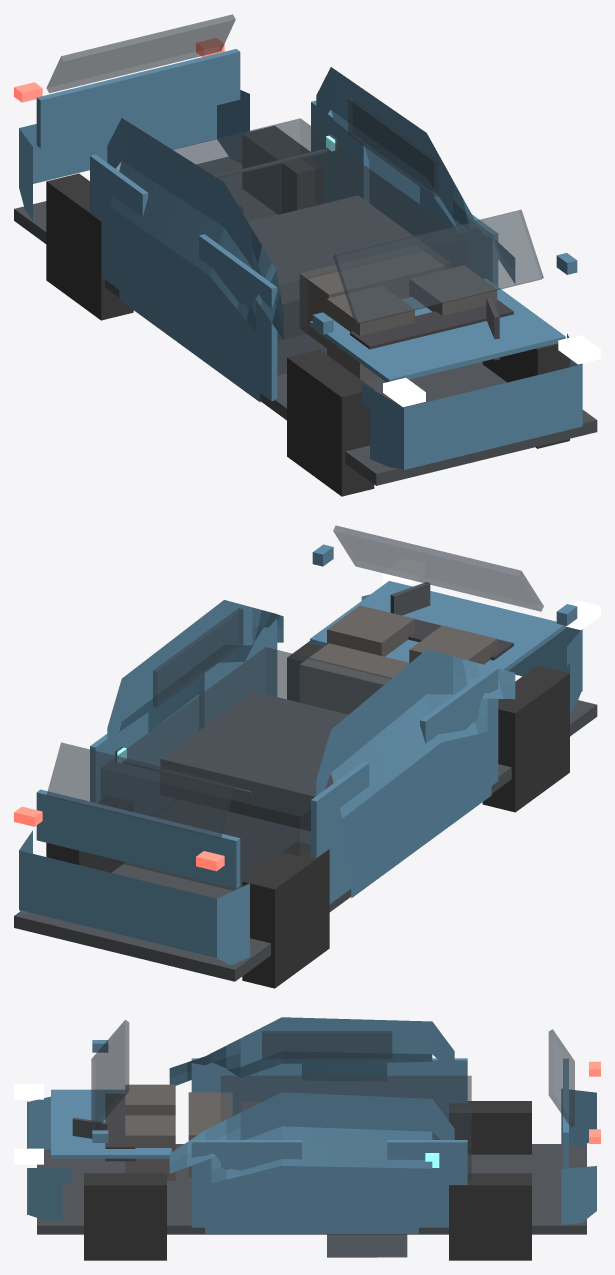
File: pickup_lod2.glb
3 views of the same model, one above another, from view 1: azimuth 30°, elevation 25°; view 2: azimuth 150°, elevation 25°; view 3: azimuth 270°, elevation 25° (orthographic). The views are drawn at different scales.
Visible parts, largest first — view 1: body_mesh, cab_mesh, windshield, tailgate_mesh, trim_mesh, wheel_well_mesh, tire_fr, frunk_mesh, tire_rr, rear_glass, seat_rear, tire_rl (+11 smaller); view 2: body_mesh, cab_mesh, wheel_well_mesh, trim_mesh, tailgate_mesh, rear_glass, tire_rr, tire_fr, windshield, frunk_mesh, seat_rear, door_fl_mesh (+11 smaller); view 3: body_mesh, trim_mesh, cab_mesh, tire_fl, tire_rl, tire_rr, frunk_mesh, window_fixed_r, door_rl_mesh, door_fl_mesh, door_fr_mesh, door_rr_mesh (+13 smaller).
Part boxes in pixels (x1,y1,x2,y2): body_mesh: (19,67,582,469); cab_mesh: (116,118,465,375); windshield: (333,210,543,324); tailgate_mesh: (36,49,240,148); trim_mesh: (14,156,597,485); wheel_well_mesh: (248,195,450,340); tire_fr: (287,349,374,496); frunk_mesh: (310,278,565,382); tire_rr: (46,173,133,320); rear_glass: (46,14,235,93); seat_rear: (299,245,444,347); tire_rl: (242,126,322,214); body_mesh: (19,594,582,965); cab_mesh: (101,647,391,890); wheel_well_mesh: (160,691,348,831); trim_mesh: (14,700,597,981); tailgate_mesh: (36,789,240,888); rear_glass: (46,742,235,838); tire_rr: (242,841,329,988); tire_fr: (482,665,569,812); windshield: (333,525,543,611); frunk_mesh: (310,581,565,670); seat_rear: (299,643,409,714); door_fl_mesh: (199,618,277,729); body_mesh: (27,1017,596,1233); trim_mesh: (37,1144,586,1234); cab_mesh: (220,1075,471,1179); tire_fl: (84,1173,166,1260); tire_rl: (449,1173,531,1260); tire_rr: (449,1101,531,1154); frunk_mesh: (51,1089,171,1158); window_fixed_r: (262,1031,392,1059); door_rl_mesh: (387,1140,467,1227); door_fl_mesh: (191,1140,301,1227); door_fr_mesh: (191,1058,301,1115); door_rr_mesh: (387,1058,467,1139).
Size of the model in its own units: 2.22 by 2.23 by 5.85.
